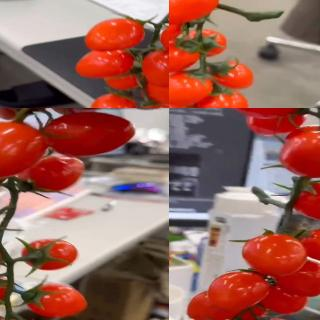tomato: (39, 111, 136, 159), (242, 234, 308, 278), (0, 119, 49, 178), (207, 270, 270, 314), (22, 282, 88, 320), (21, 155, 86, 193), (84, 17, 146, 51), (74, 48, 136, 80), (278, 130, 320, 177), (20, 238, 80, 270), (186, 290, 248, 320), (275, 258, 320, 297), (169, 69, 214, 107), (244, 110, 309, 135), (175, 29, 228, 57), (205, 60, 254, 90), (169, 0, 220, 25), (291, 182, 320, 225), (143, 48, 169, 87), (169, 42, 199, 75), (195, 90, 250, 108), (86, 91, 140, 108), (215, 108, 308, 117), (298, 227, 320, 265), (146, 73, 169, 108)
